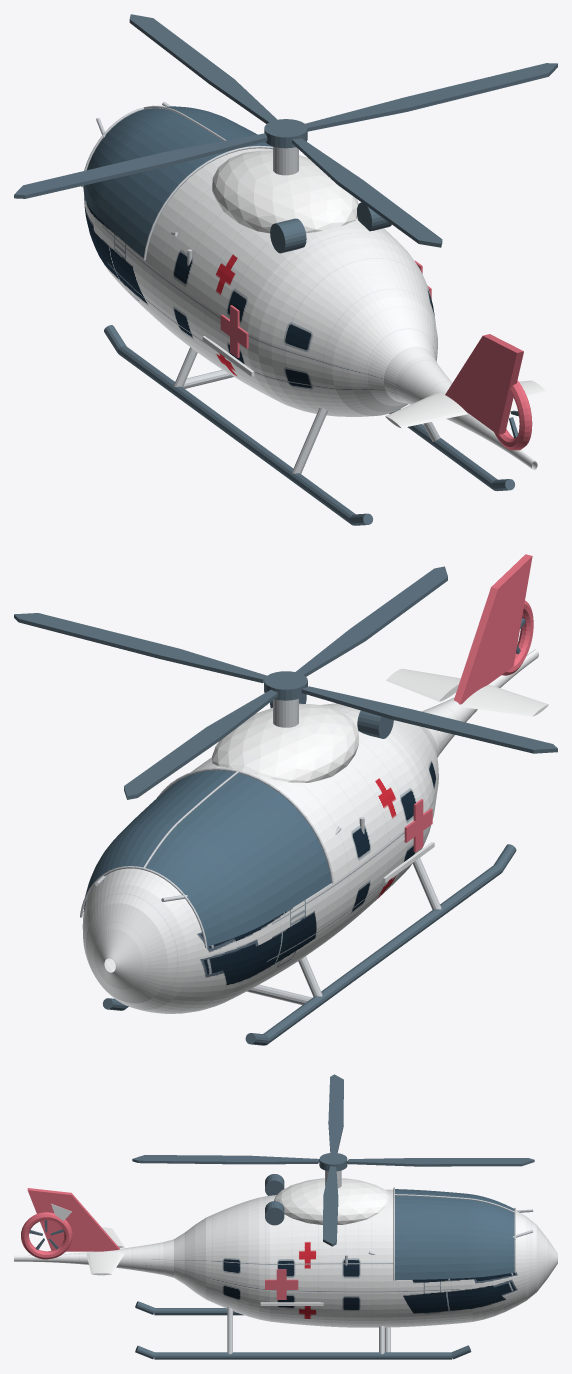
File: 07_mandalay_rescue.glb
The picture shows the model from 3 angles, top to bottom: view 1: azimuth 30°, elevation 25°; view 2: azimuth 150°, elevation 25°; view 3: azimuth 270°, elevation 25°; orthographic projection. The views are drawn at different scales.
Visible parts, largest first — view 1: textured_airframe, rotor_main, glass-details, body-details, dark-details, accent-details, metal-details; view 2: textured_airframe, glass-details, rotor_main, body-details, accent-details, dark-details, metal-details; view 3: textured_airframe, glass-details, rotor_main, accent-details, body-details, dark-details, metal-details, trim-details.
Boxes of the visible parts, bbox=[...] form: textured_airframe: bbox=[84, 148, 537, 470]; rotor_main: bbox=[14, 14, 557, 247]; glass-details: bbox=[83, 106, 272, 257]; body-details: bbox=[212, 150, 547, 428]; dark-details: bbox=[104, 202, 514, 525]; accent-details: bbox=[220, 260, 532, 450]; metal-details: bbox=[81, 101, 440, 473]; textured_airframe: bbox=[82, 649, 538, 1013]; glass-details: bbox=[85, 770, 331, 946]; rotor_main: bbox=[14, 566, 557, 799]; body-details: bbox=[212, 668, 548, 782]; accent-details: bbox=[404, 554, 533, 852]; dark-details: bbox=[102, 694, 516, 1045]; metal-details: bbox=[80, 699, 441, 1005]; textured_airframe: bbox=[14, 1189, 557, 1327]; glass-details: bbox=[395, 1189, 514, 1280]; rotor_main: bbox=[132, 1074, 534, 1246]; accent-details: bbox=[21, 1188, 298, 1299]; body-details: bbox=[86, 1178, 389, 1275]; dark-details: bbox=[135, 1174, 471, 1359]; metal-details: bbox=[227, 1170, 533, 1354]; trim-details: bbox=[51, 1203, 323, 1305].
Bounding box in the file's own units: 11.5 × 5.63 × 15.55.
8 materials, 1 textured.
